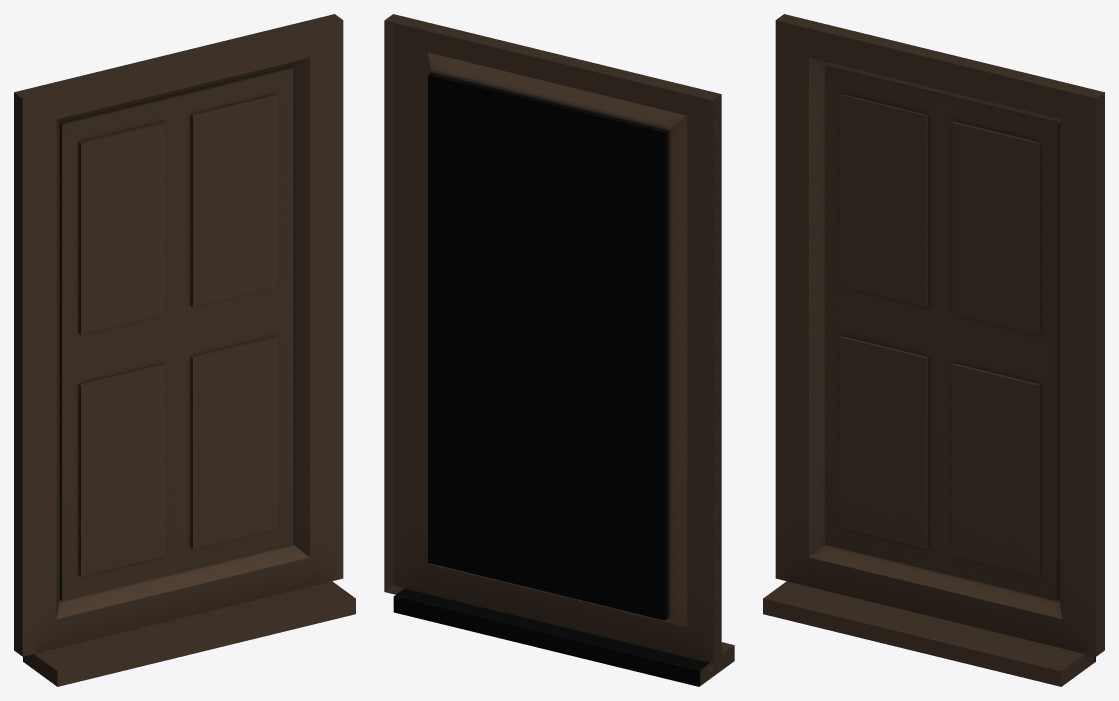
Rendered from tuer_modul.glb.
The picture shows the model from 3 angles, left to right: view 1: azimuth 30°, elevation 25°; view 2: azimuth 150°, elevation 25°; view 3: azimuth 330°, elevation 25°; orthographic projection. The views are drawn at different scales.
Parts seen in each view (by area): view 1: tuer_modul; view 2: tuer_modul; view 3: tuer_modul.
Part boxes in pixels (bbox=[...]): tuer_modul: bbox=[14, 14, 355, 686]; tuer_modul: bbox=[384, 14, 734, 686]; tuer_modul: bbox=[763, 14, 1104, 686].
Size of the model in its own units: 1.72 by 2.94 by 0.32.
1 material, 1 textured.
